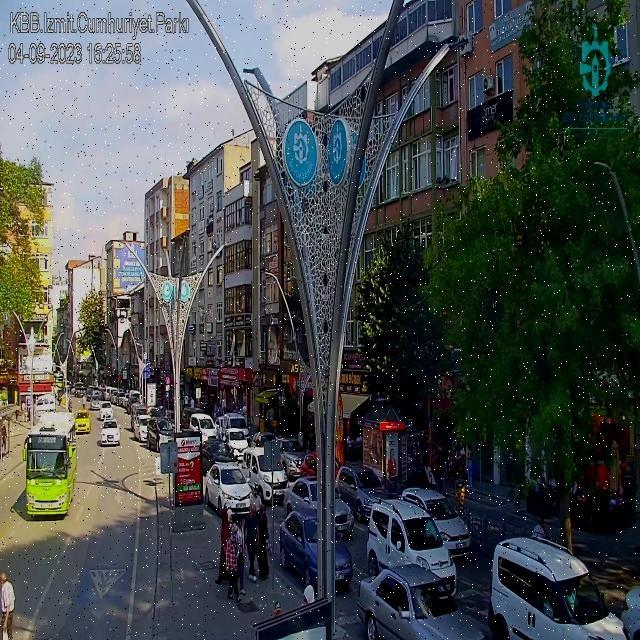Bus: (20, 412, 75, 534)
Car: (360, 562, 488, 640), (276, 509, 352, 595), (399, 486, 472, 558), (282, 476, 352, 542), (336, 463, 391, 523), (242, 444, 290, 505), (203, 461, 255, 517), (277, 438, 310, 478), (202, 438, 237, 468), (147, 418, 175, 452), (222, 428, 250, 460), (100, 419, 121, 447)
Van: (488, 535, 628, 638)
